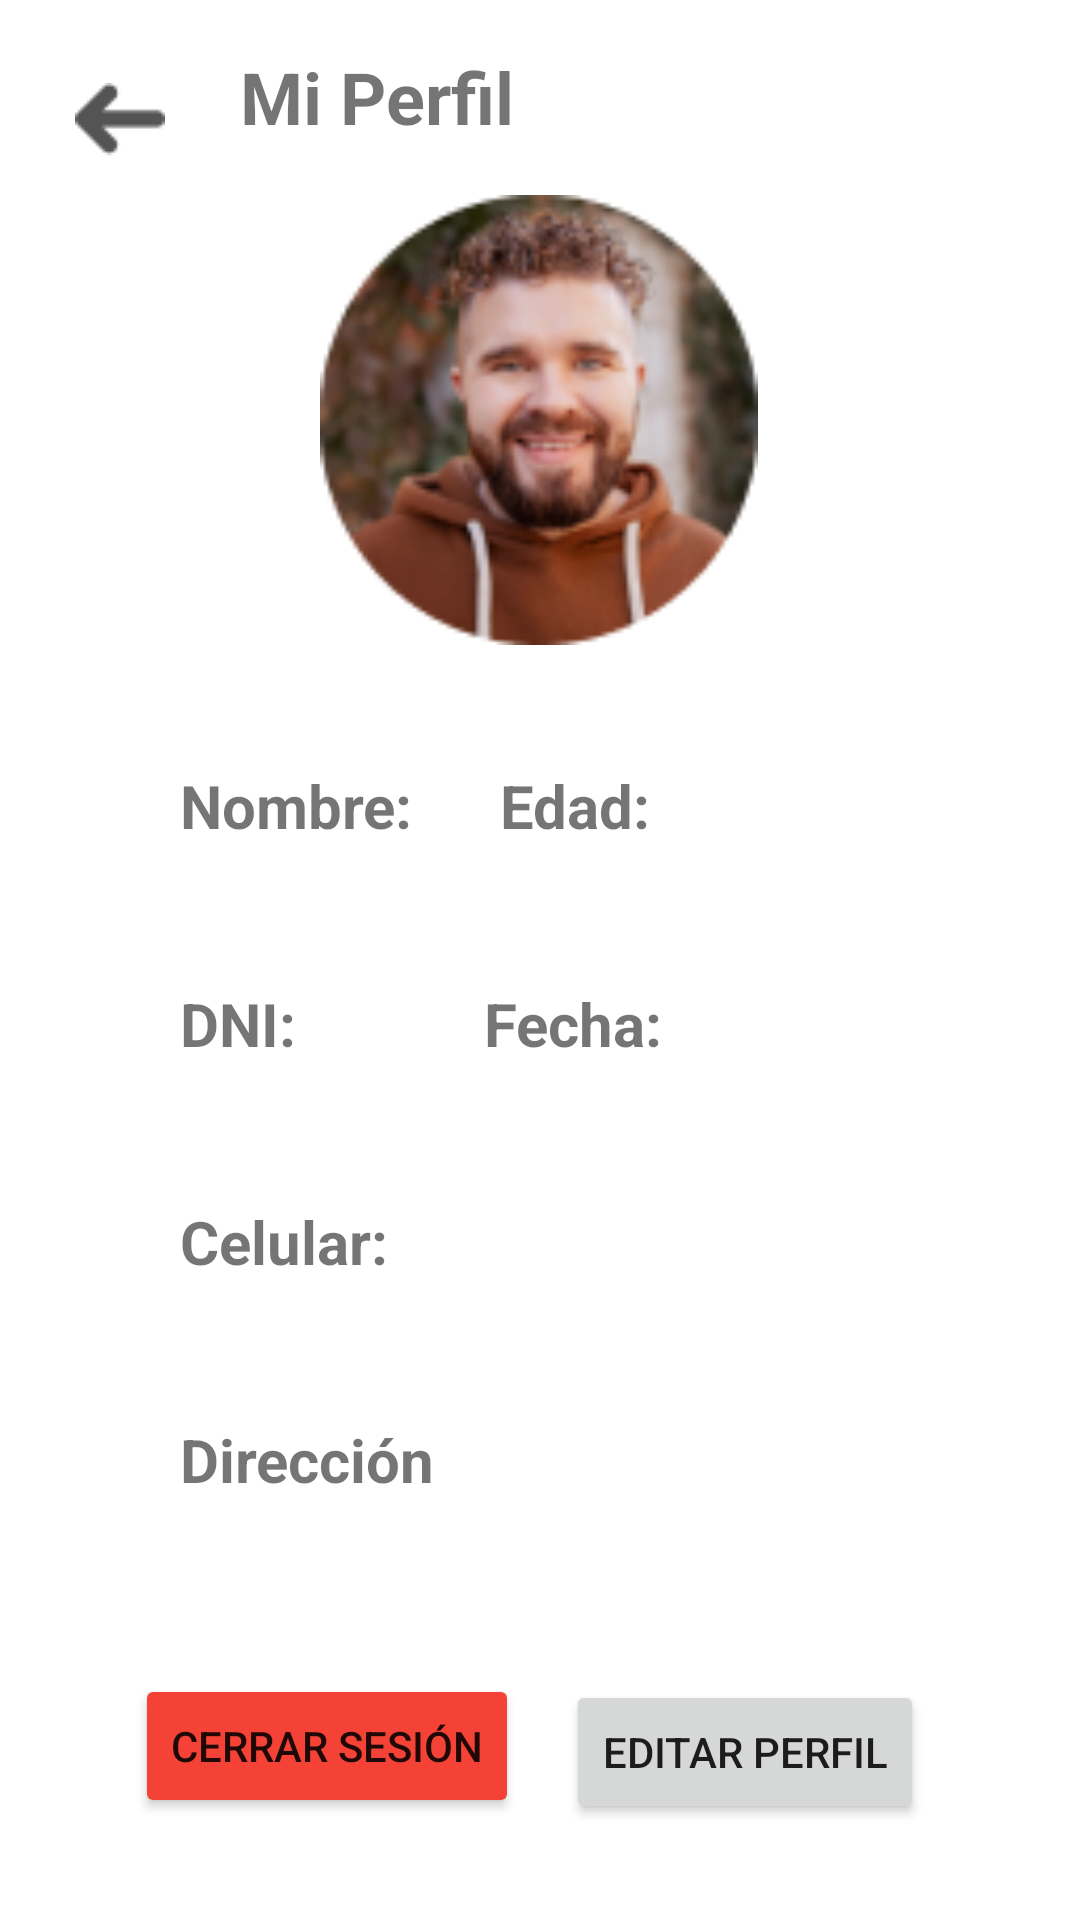

Where icons sit on this 1080×1920 app screen, as detection(x1, y1, x2, y2):
arrow: detection(75, 83, 165, 155)
